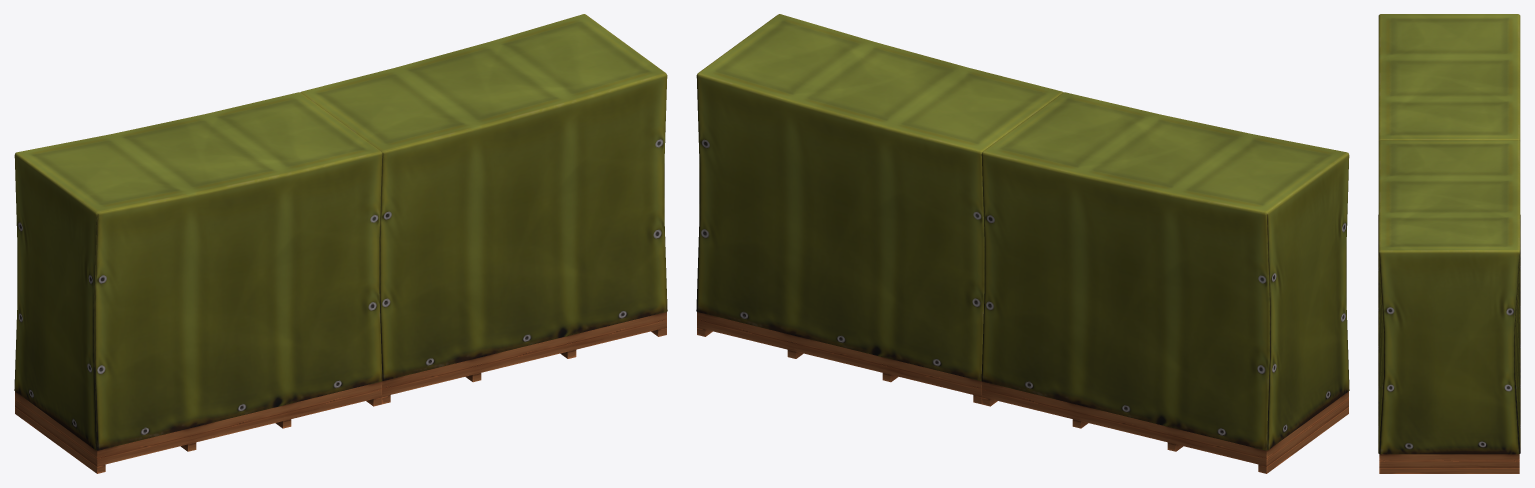
The model's file is Crate03_2.FBX.
The picture shows the model from 3 angles, left to right: view 1: azimuth 30°, elevation 25°; view 2: azimuth 150°, elevation 25°; view 3: azimuth 270°, elevation 25°; orthographic projection. The views are drawn at different scales.
Visible parts, largest first — view 1: Crate03_2; view 2: Crate03_2; view 3: Crate03_2.
Part boxes in pixels (bbox=[...]): Crate03_2: bbox=[14, 14, 667, 473]; Crate03_2: bbox=[696, 14, 1349, 473]; Crate03_2: bbox=[1378, 14, 1520, 473].
Size of what is drawn, in the model's own units: 4.01 by 1.75 by 1.01.
